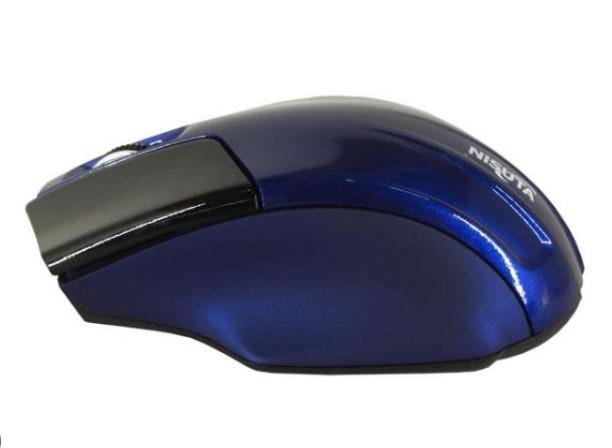computer mouse: (24, 95, 586, 377)
